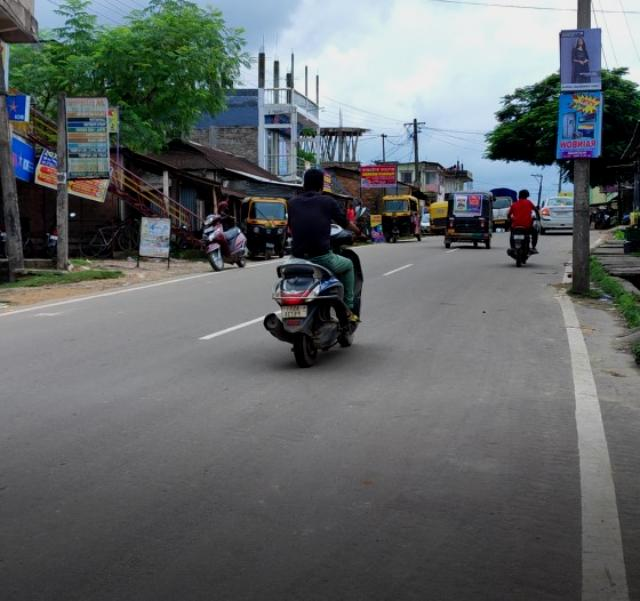licensePlate: (277, 302, 307, 319), (509, 236, 527, 241)
motorcycle: (261, 167, 358, 368), (503, 187, 539, 270)
withoutHelmet: (297, 170, 332, 196), (517, 188, 531, 202)
